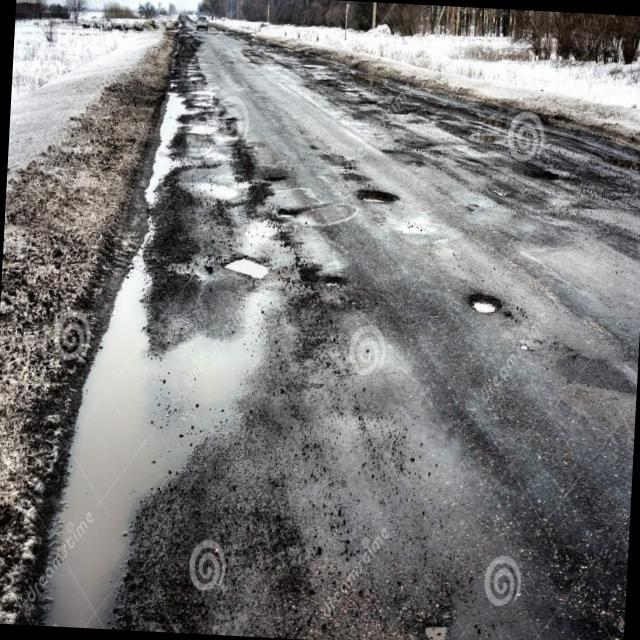Potholes: (222, 253, 364, 314), (318, 142, 404, 216), (516, 143, 590, 200), (464, 285, 520, 338)
